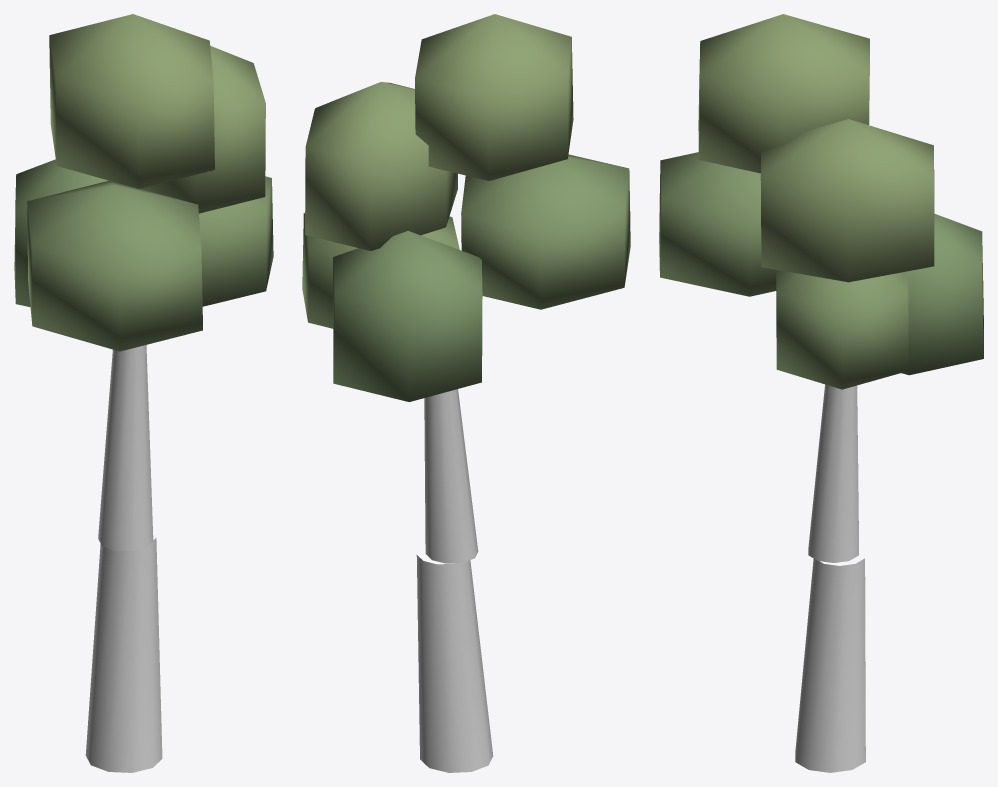
File: oak_v0_far.gltf
3 views of the same model, side by side, from view 1: azimuth 30°, elevation 25°; view 2: azimuth 150°, elevation 25°; view 3: azimuth 270°, elevation 25° (orthographic). The views are drawn at different scales.
Parts seen in each view (by area): view 1: foliage, bark; view 2: foliage, bark; view 3: foliage, bark.
Part boxes in pixels (x1,y1,x2,y2): foliage: (14,14,273,351); bark: (85,345,162,772); foliage: (302,14,630,401); bark: (416,389,493,772); foliage: (659,14,983,389); bark: (795,384,865,772).
Size of the model in its own units: 2.25 by 5.69 by 2.28.
